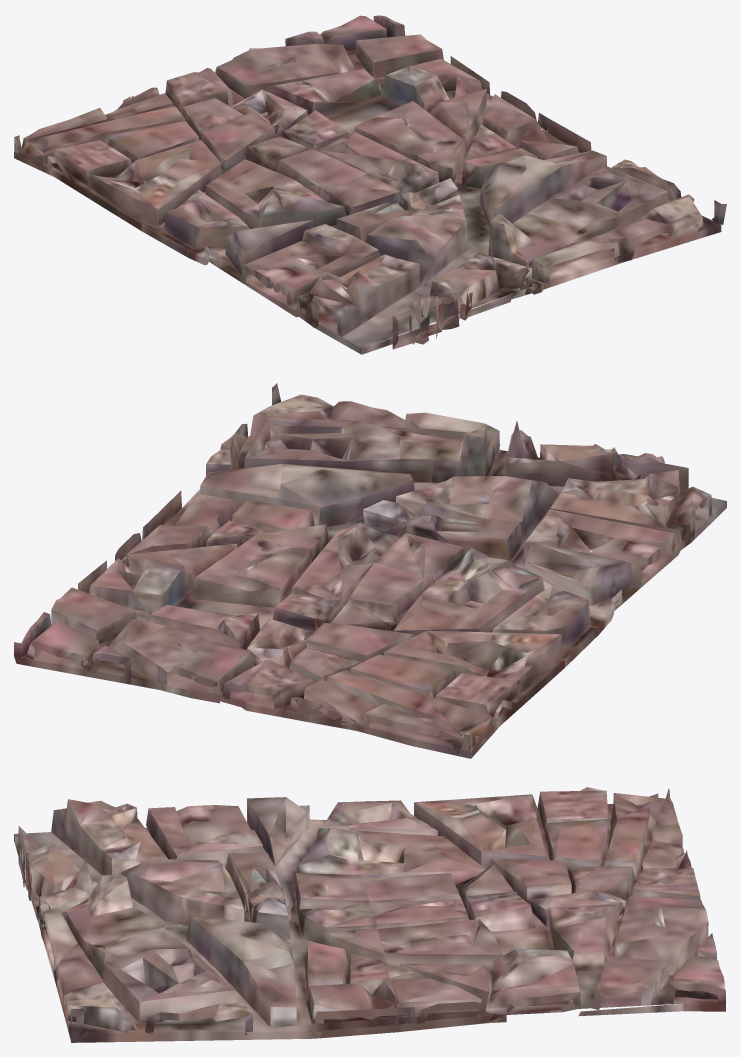
3 views of the same model, one above another, from view 1: azimuth 30°, elevation 25°; view 2: azimuth 150°, elevation 25°; view 3: azimuth 270°, elevation 25° (orthographic). The views are drawn at different scales.
Visible parts, largest first — view 1: Mesh_0; view 2: Mesh_0; view 3: Mesh_0.
Boxes of the visible parts, x1,y1,x2,y2 form: Mesh_0: [14, 15, 726, 354]; Mesh_0: [14, 383, 726, 758]; Mesh_0: [14, 787, 725, 1042].
Bounding box in the file's own units: 540 × 84.19 × 660.
Materials: 2 (2 with a texture image).
